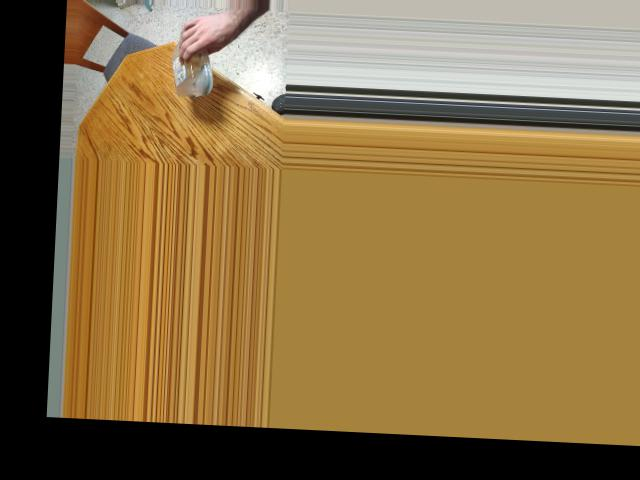cheese: (169, 30, 219, 86)
